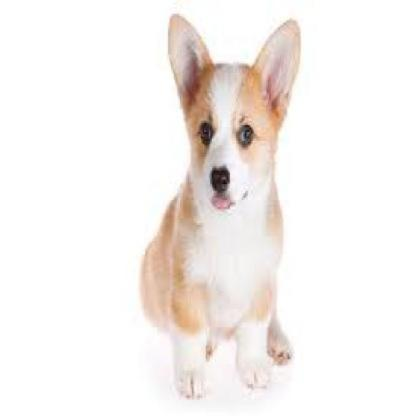dog: (138, 12, 302, 400)
